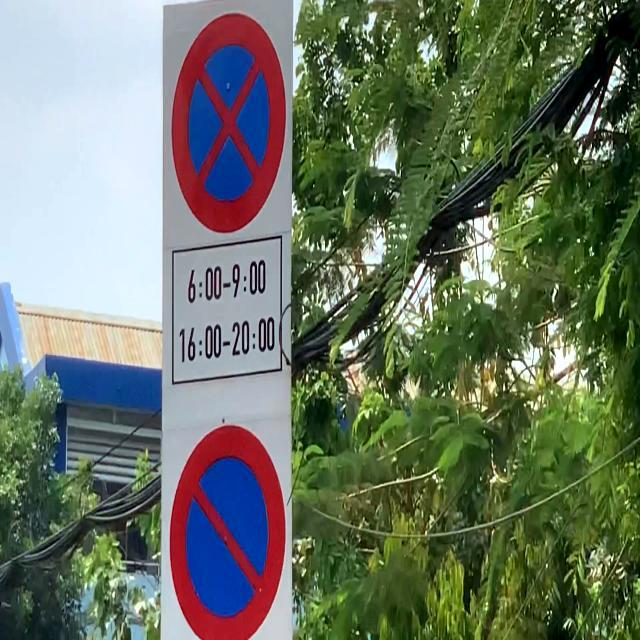Cam dung xe va do xe: (166, 6, 288, 230)
